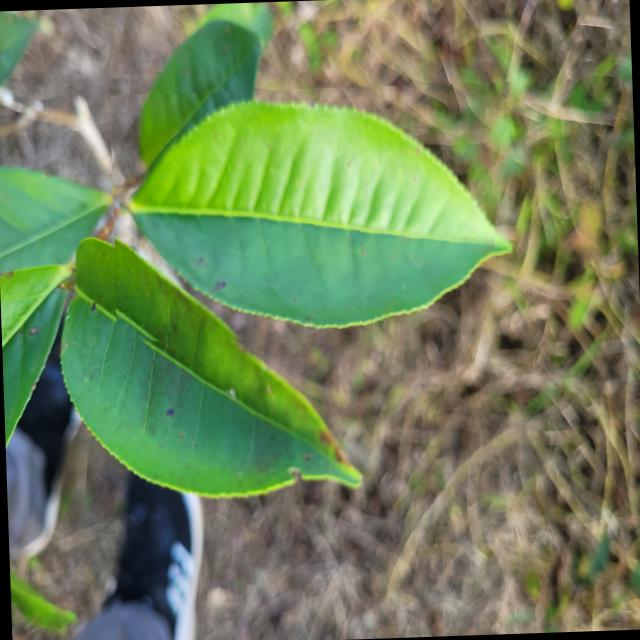Category D 7+ days, Not for Tea: (107, 81, 519, 350)
